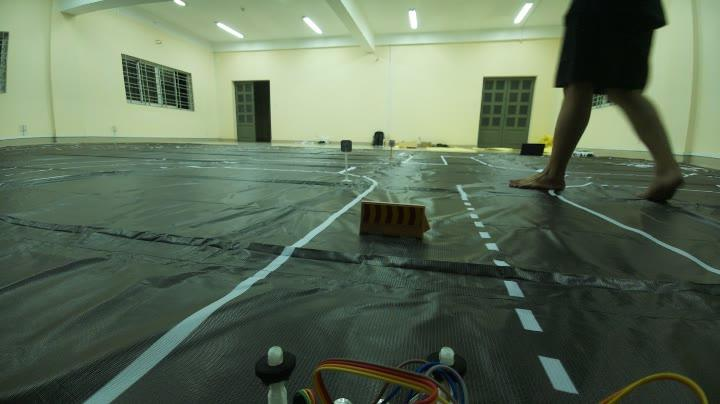roadblock: (352, 190, 441, 252)
